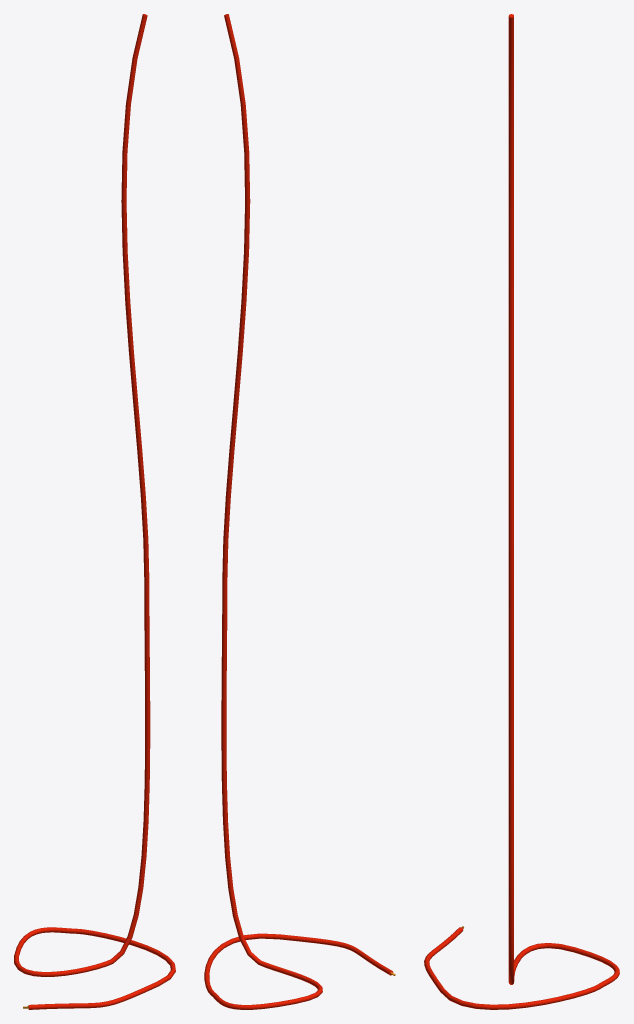
The model's file is zica.fbx.
3 views of the same model, side by side, from view 1: azimuth 30°, elevation 25°; view 2: azimuth 150°, elevation 25°; view 3: azimuth 270°, elevation 25° (orthographic). The views are drawn at different scales.
Parts seen in each view (by area): view 1: BezierCurve; view 2: BezierCurve; view 3: BezierCurve.
Boxes of the visible parts, x1,y1,x2,y2 form: BezierCurve: (14,14,175,1009); BezierCurve: (204,14,395,1009); BezierCurve: (424,14,619,1009).
Size of the model in its own units: 72.46 by 408 by 73.13.
